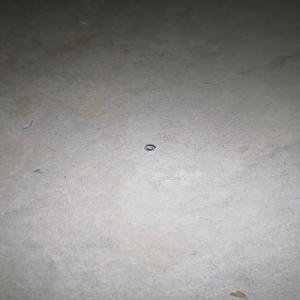Nut: (144, 144, 155, 152)
